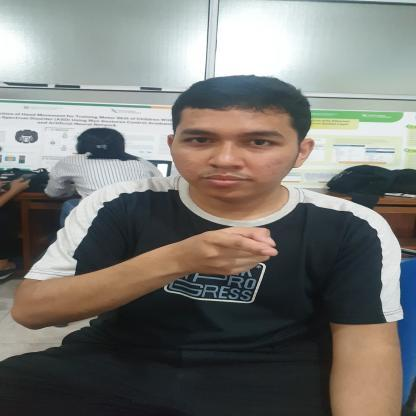Kamu: (164, 208, 294, 306)
